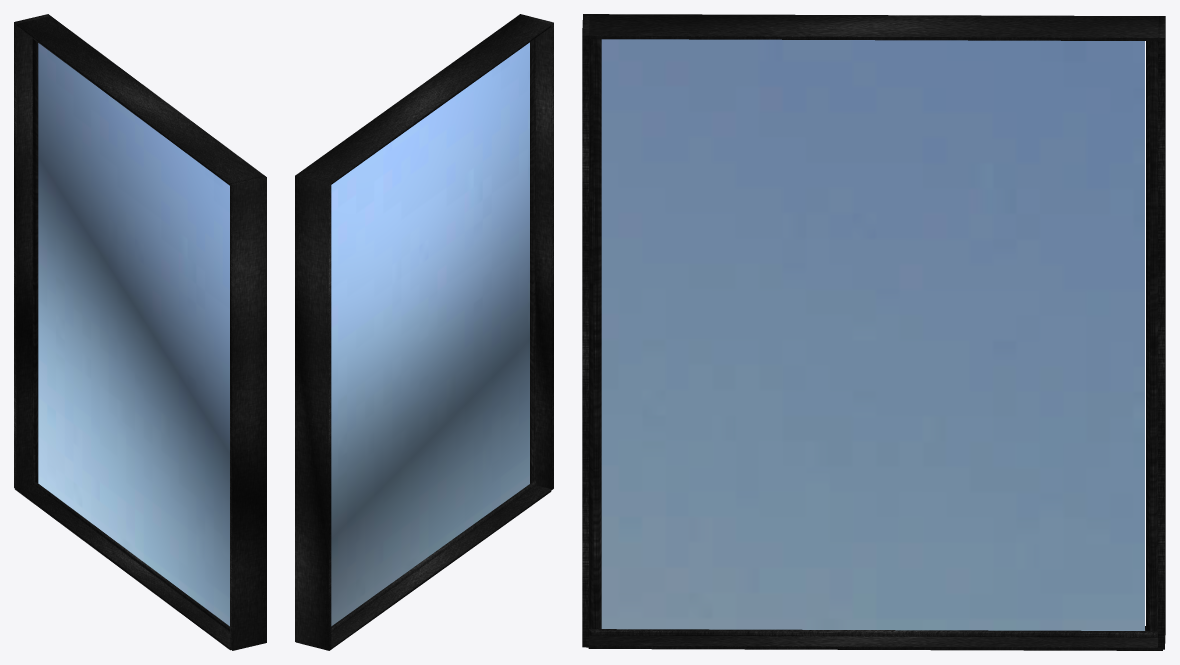
File: Ventana8.obj
3 renders of one model, left to right at view 1: azimuth 30°, elevation 25°; view 2: azimuth 150°, elevation 25°; view 3: azimuth 270°, elevation 25°, orthographic. The views are drawn at different scales.
Parts seen in each view (by area): view 1: polySurface81; view 2: polySurface81; view 3: polySurface81.
Part boxes in pixels (bbox=[...]): polySurface81: bbox=[14, 14, 266, 650]; polySurface81: bbox=[295, 14, 553, 650]; polySurface81: bbox=[582, 14, 1165, 650].
Size of the model in its own units: 0.148 by 1.77 by 1.53.
2 materials, 2 textured.
